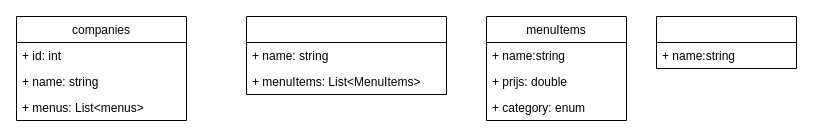
This 813x137 diagram has some shape labels left out. Each missing label, with the box of its shape:
categories: (656, 16, 796, 68)
menus: (246, 16, 446, 94)
